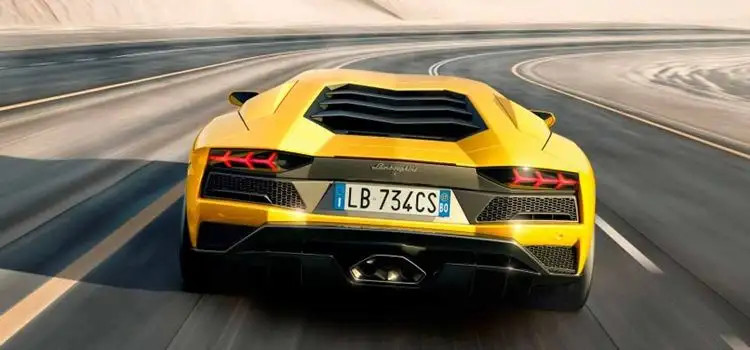car: (183, 66, 597, 312)
